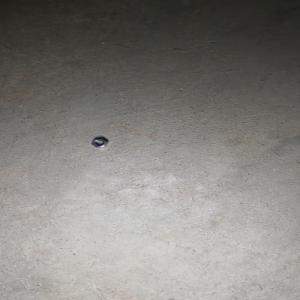Nut: (91, 138, 109, 148)
